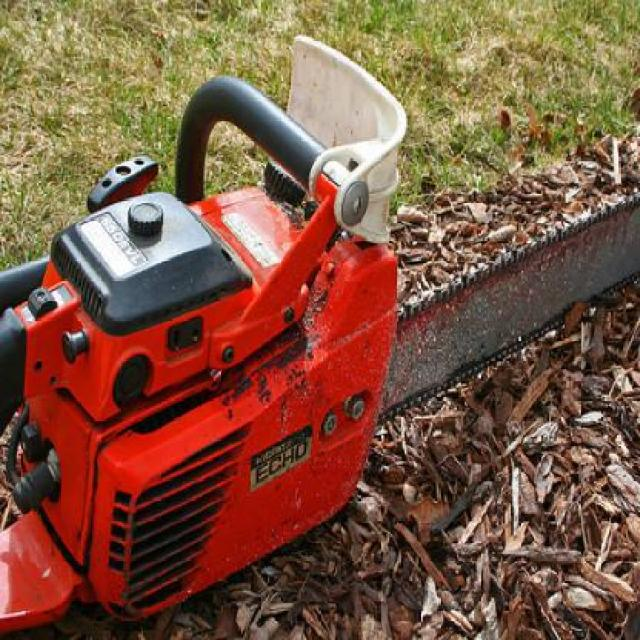Chainsaw: (1, 28, 639, 614)
